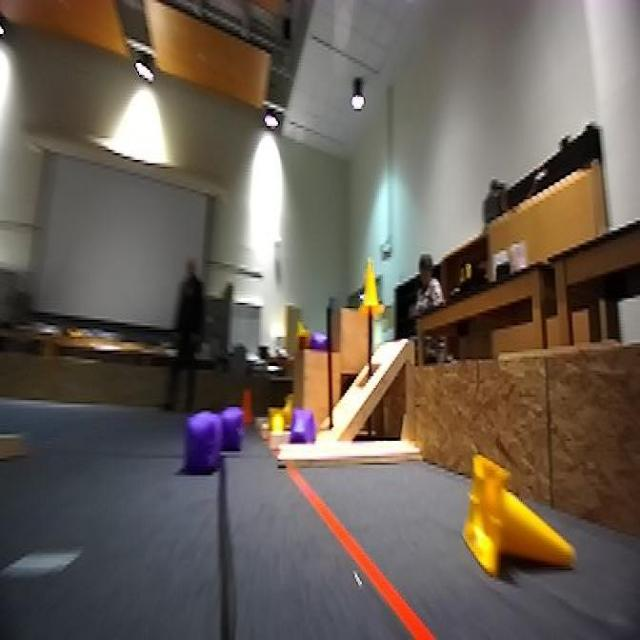frc_cone: (465, 449, 581, 568), (359, 250, 383, 312), (266, 410, 284, 429)
frc_cube: (184, 415, 226, 475), (221, 407, 246, 451), (286, 403, 312, 442), (312, 327, 330, 352)
